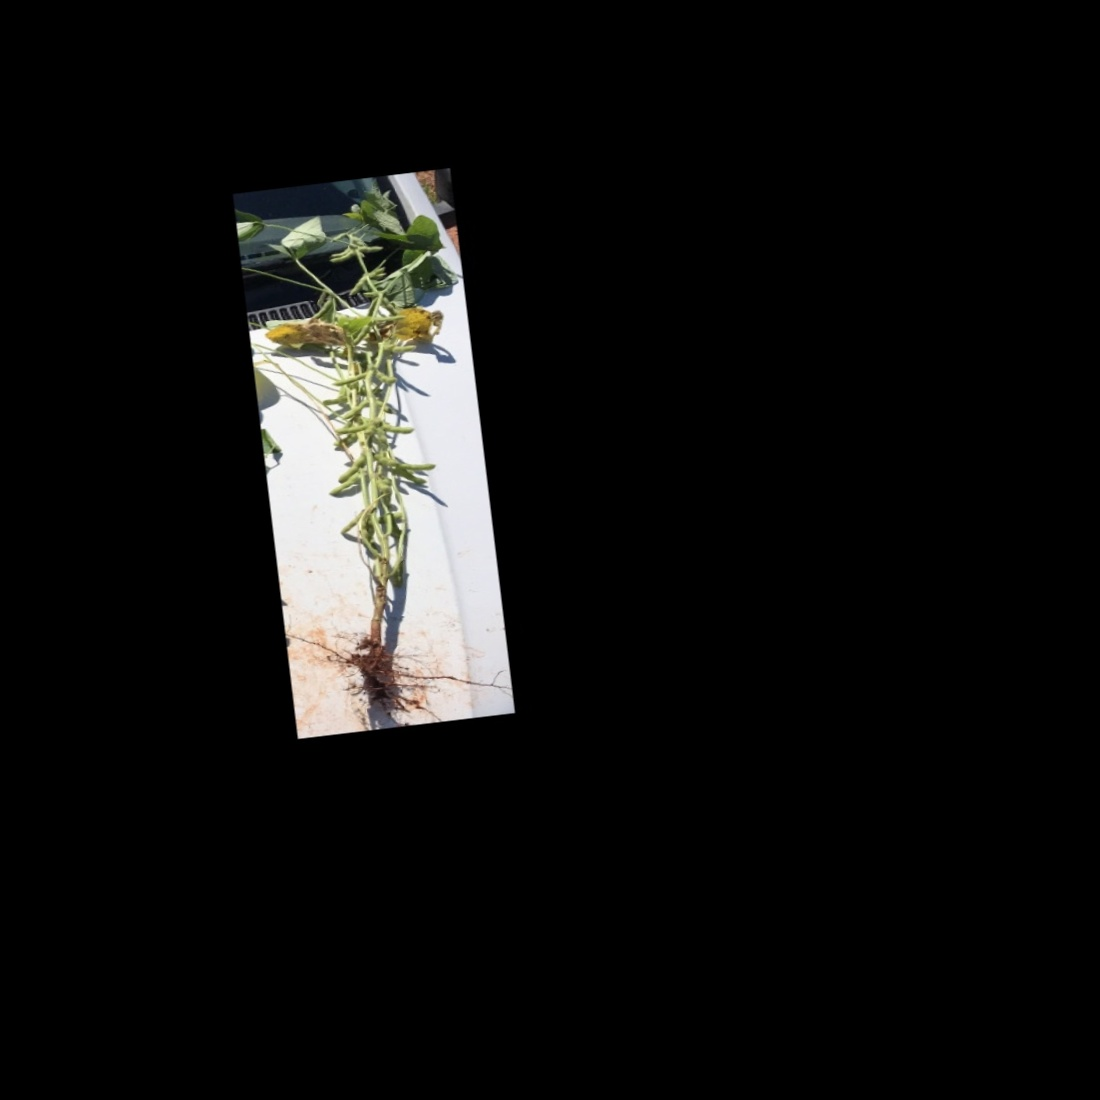pod: (390, 454, 437, 477), (334, 453, 370, 484), (375, 416, 418, 438), (367, 447, 403, 473), (326, 474, 362, 499), (336, 397, 372, 421), (336, 507, 365, 535), (369, 364, 399, 389), (329, 370, 369, 388), (332, 420, 369, 437), (382, 341, 420, 357), (343, 277, 367, 298)
soy: (243, 186, 497, 720)
